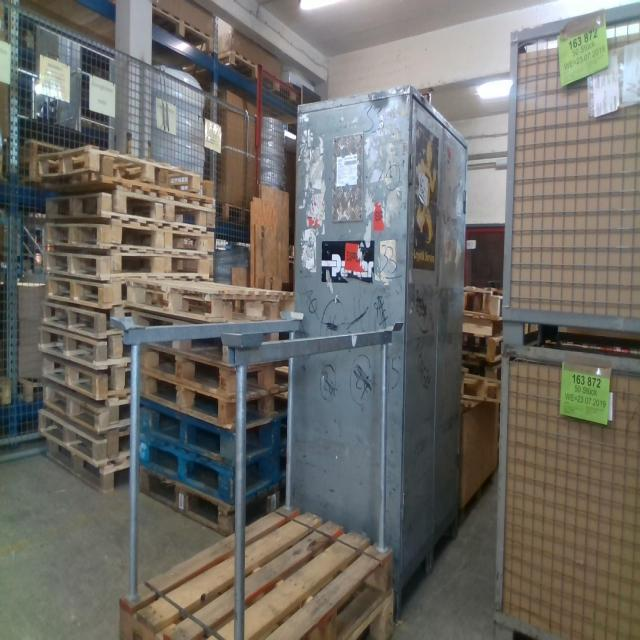pallet: (117, 501, 403, 640), (36, 139, 205, 198), (141, 405, 277, 459), (131, 275, 291, 318), (144, 438, 285, 486), (141, 467, 277, 515), (142, 374, 285, 419), (145, 347, 287, 391), (46, 221, 211, 249), (42, 381, 130, 427), (38, 414, 130, 458), (45, 249, 211, 273), (48, 439, 124, 490), (39, 355, 133, 394), (46, 200, 217, 221), (40, 330, 131, 364), (40, 301, 133, 330), (348, 587, 395, 640), (45, 273, 133, 301), (461, 370, 504, 409), (461, 285, 503, 322), (461, 331, 503, 361)
stillage: (502, 1, 640, 352), (495, 352, 638, 639)
